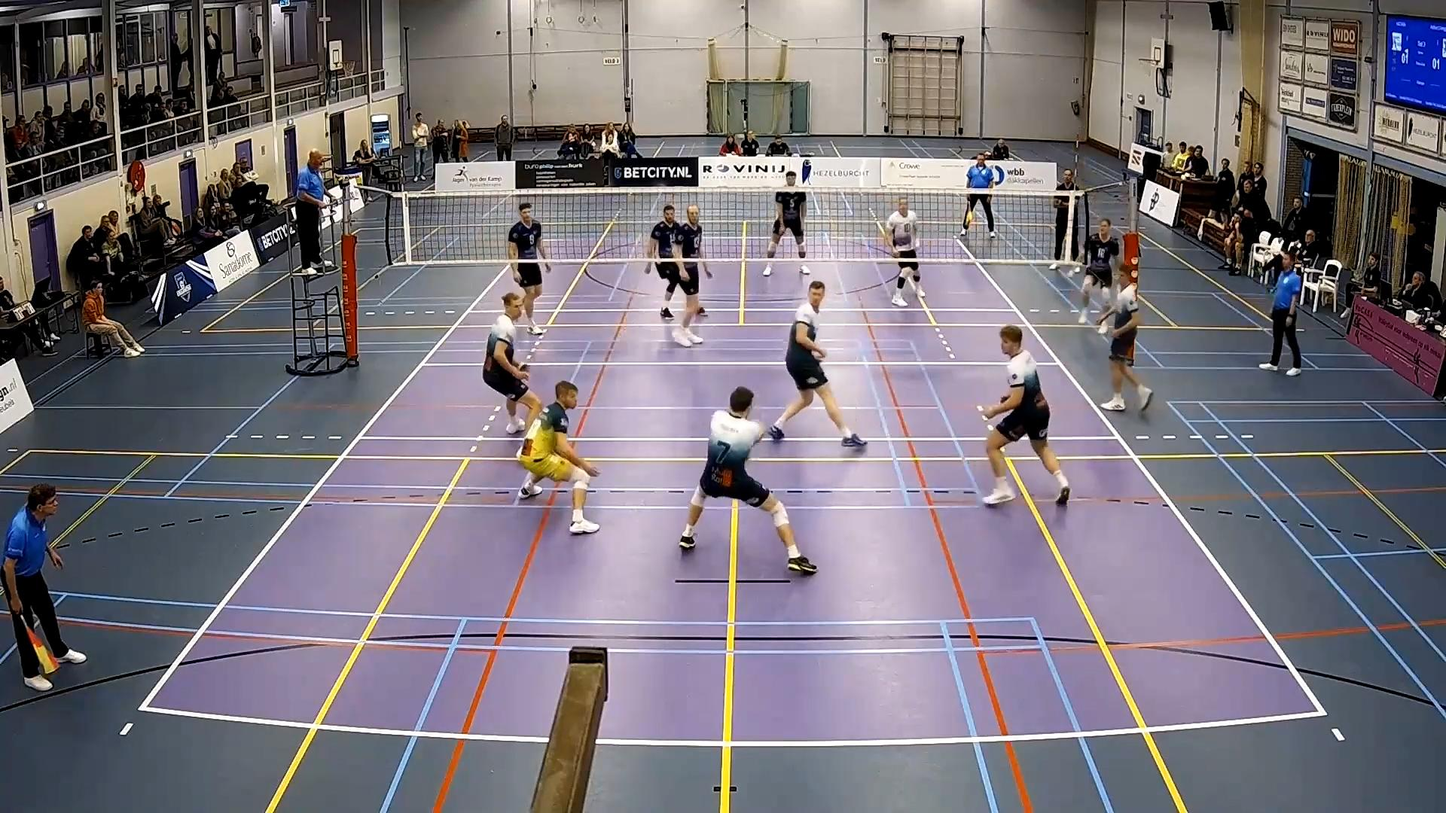Dig: (676, 383, 819, 579)
Player: (979, 324, 1069, 505), (767, 280, 865, 446), (517, 381, 598, 534), (482, 292, 541, 434), (1100, 284, 1152, 411), (669, 206, 711, 346), (508, 202, 551, 335), (763, 170, 809, 276), (881, 197, 925, 306), (647, 204, 687, 318), (1078, 218, 1120, 324), (676, 206, 702, 287)
